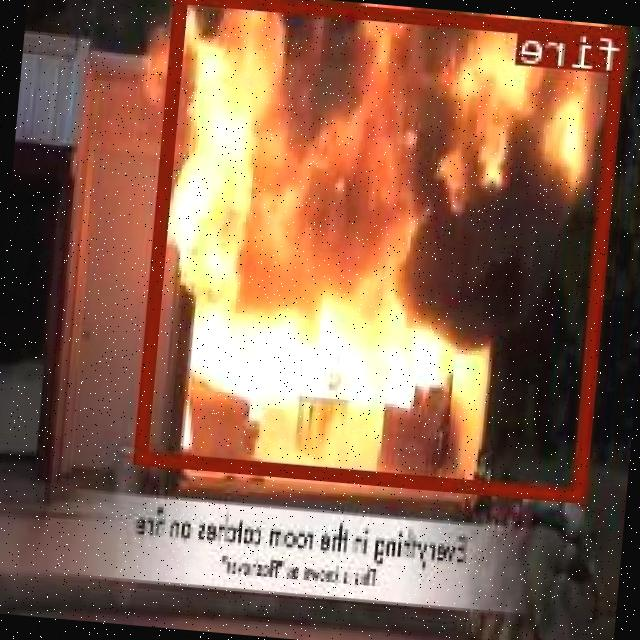fire: (136, 0, 629, 499)
